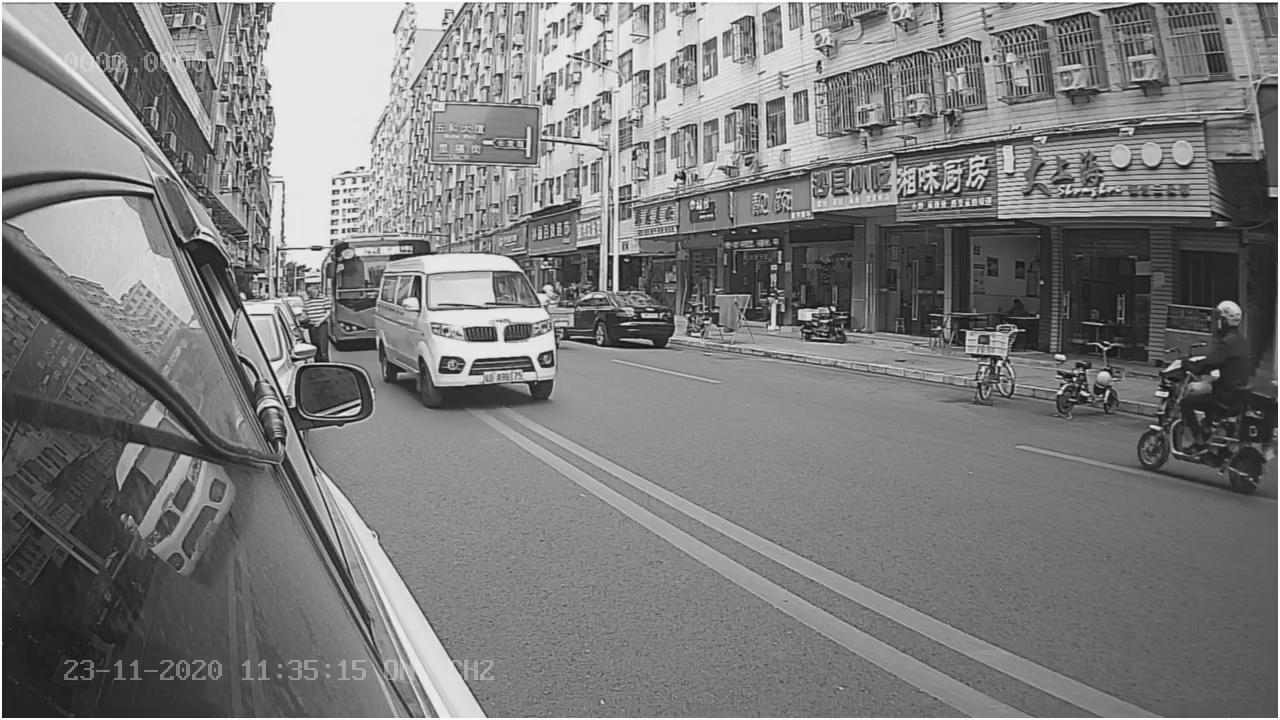person: (1179, 282, 1252, 388)
